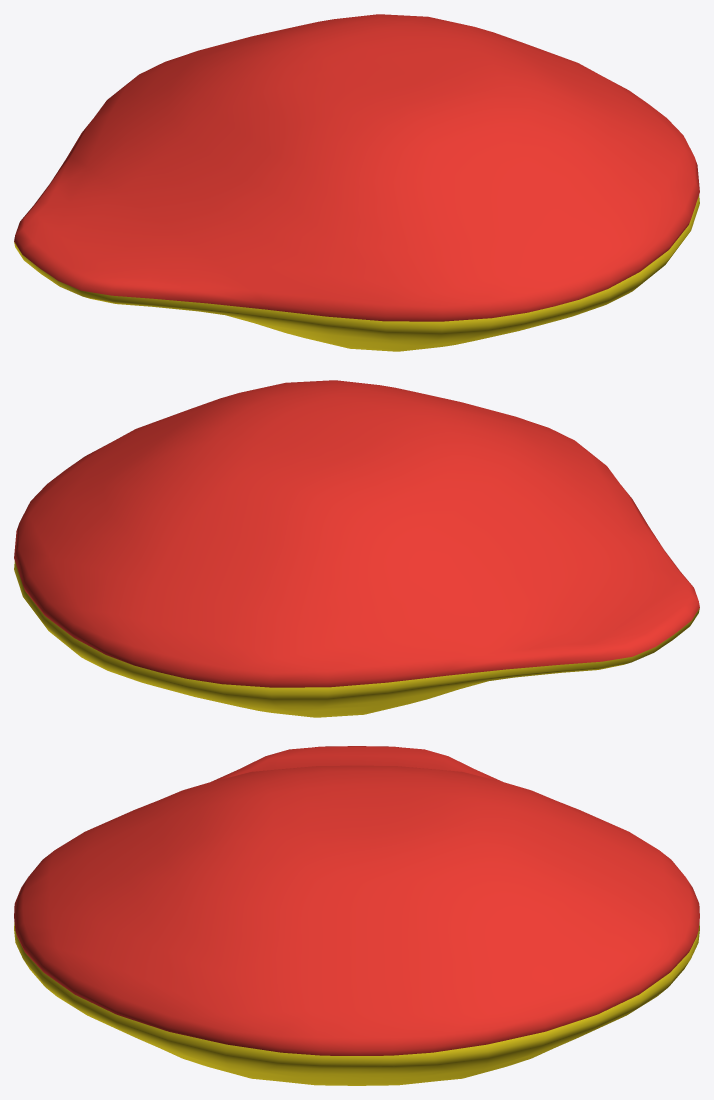
File: Clam_Default.fbx
3 renders of one model, top to bottom at view 1: azimuth 30°, elevation 25°; view 2: azimuth 150°, elevation 25°; view 3: azimuth 270°, elevation 25°, orthographic.
Parts seen in each view (by area): view 1: Plane.064, Plane.065; view 2: Plane.064, Plane.065; view 3: Plane.064, Plane.065.
Boxes of the visible parts, x1,y1,x2,y2 form: Plane.064: (14, 14, 699, 321); Plane.065: (14, 195, 699, 351); Plane.064: (14, 380, 699, 687); Plane.065: (14, 561, 699, 717); Plane.064: (14, 746, 699, 1055); Plane.065: (14, 922, 699, 1085).
Size of the model in its own units: 48.8 by 17.48 by 46.31.
